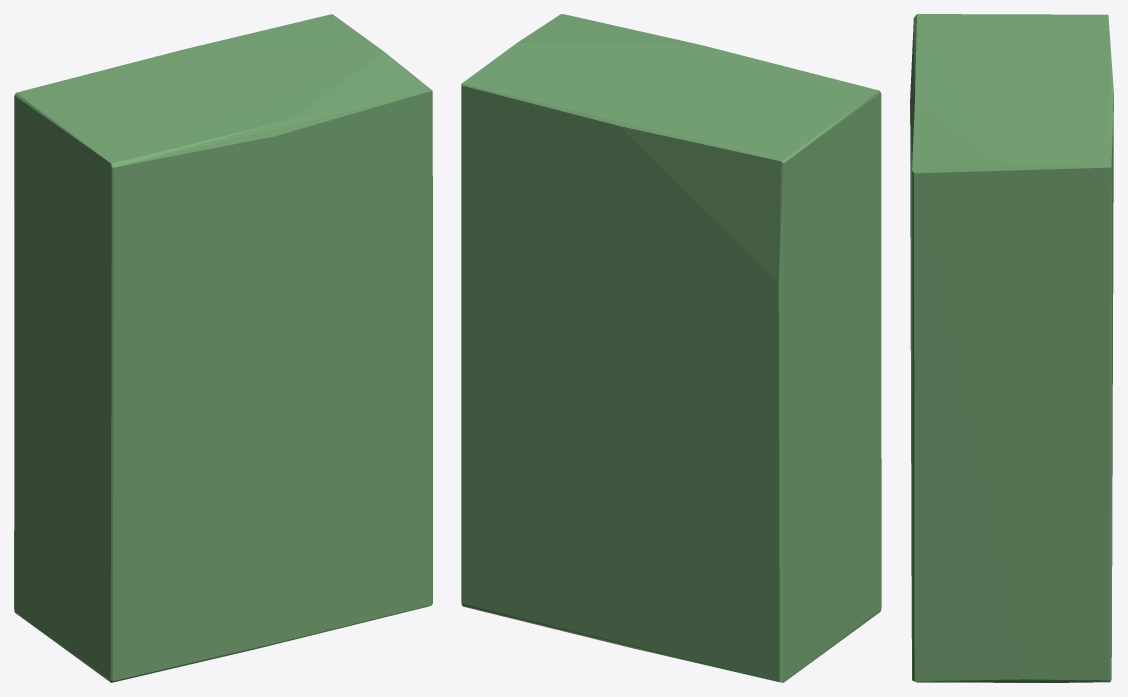
Rendered from box_printer_brown_b10.glb.
The picture shows the model from 3 angles, left to right: view 1: azimuth 30°, elevation 25°; view 2: azimuth 150°, elevation 25°; view 3: azimuth 270°, elevation 25°; orthographic projection.
Parts seen in each view (by area): view 1: geometry_0; view 2: geometry_0; view 3: geometry_0.
Boxes of the visible parts, x1,y1,x2,y2 form: geometry_0: (14,14,432,682); geometry_0: (461,14,881,682); geometry_0: (910,14,1113,682).
Bounding box in the file's own units: 0.3088 × 0.48 × 0.171.
